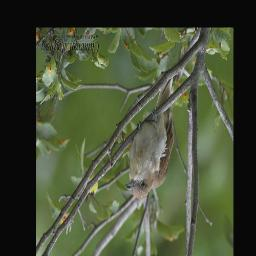Cuckoo: (125, 77, 175, 200)
